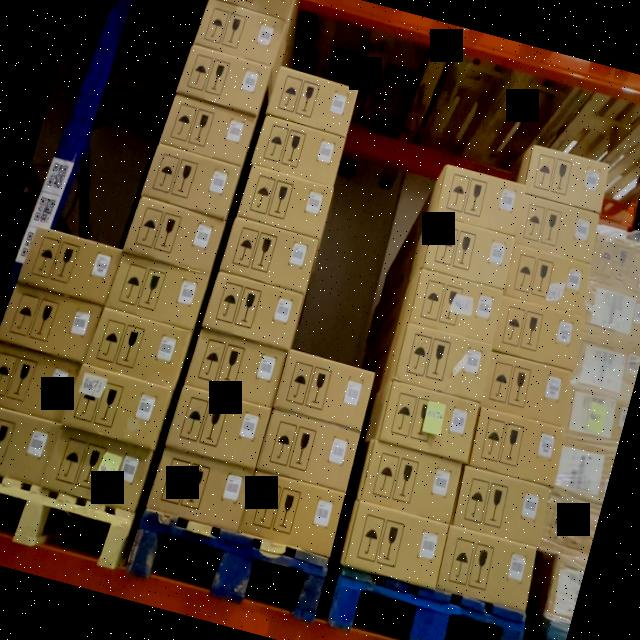box: (338, 498, 448, 588), (62, 363, 173, 449), (433, 523, 538, 613), (39, 428, 154, 510), (239, 470, 346, 557), (354, 439, 462, 524), (164, 385, 272, 469), (255, 408, 361, 493), (145, 447, 253, 530), (374, 380, 480, 464), (273, 348, 376, 431), (86, 306, 192, 386), (106, 251, 210, 331), (0, 284, 102, 364), (200, 270, 303, 349), (449, 466, 548, 548), (183, 330, 287, 408), (17, 228, 121, 305), (391, 322, 491, 402), (123, 196, 225, 273), (467, 406, 565, 486), (219, 215, 319, 292), (406, 268, 504, 345), (419, 215, 514, 291), (480, 351, 574, 427), (236, 166, 334, 238), (144, 147, 241, 219), (160, 93, 258, 164), (265, 65, 359, 138), (251, 116, 347, 187), (174, 46, 272, 114), (504, 240, 594, 314), (433, 164, 525, 236), (492, 295, 584, 367), (192, 0, 286, 65), (513, 194, 601, 263), (523, 144, 612, 212), (0, 347, 79, 423), (0, 411, 60, 486), (587, 229, 640, 293)
